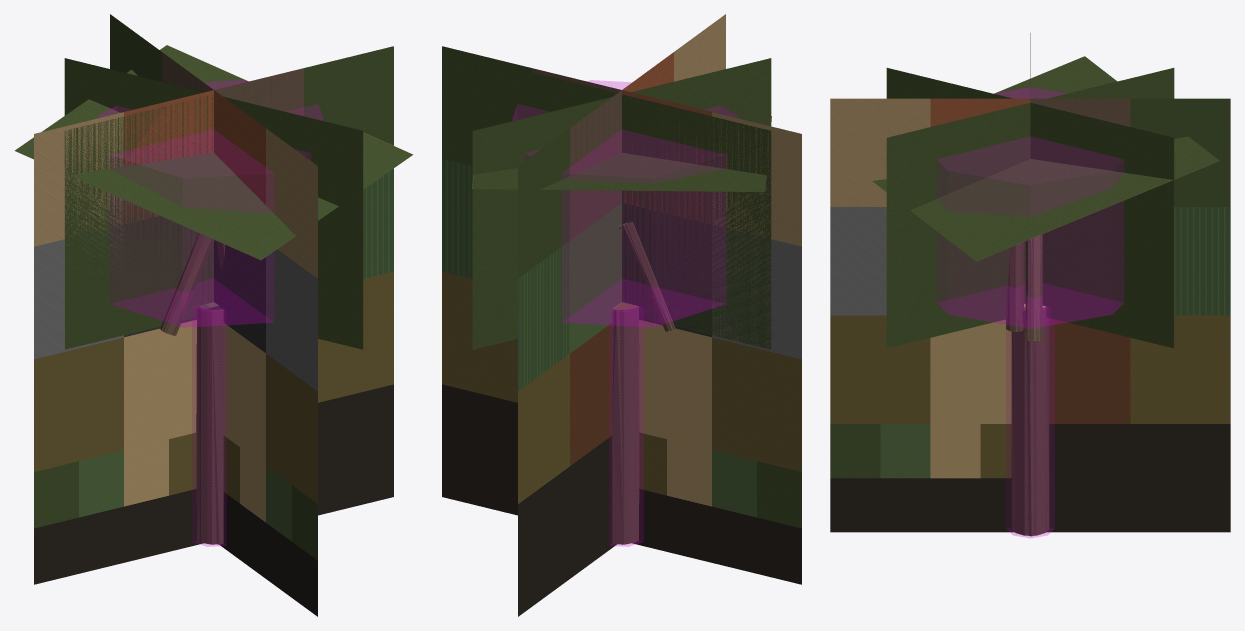
The model's file is mesquite_small.dae.
3 views of the same model, side by side, from view 1: azimuth 30°, elevation 25°; view 2: azimuth 150°, elevation 25°; view 3: azimuth 270°, elevation 25° (orthographic). The views are drawn at different scales.
Visible parts, largest first — view 1: mesquite_small_a50, mesquite_small_a800, mesquite_small_a200, Colmesh_canopy-1, Colmesh_trunk-1; view 2: mesquite_small_a50, mesquite_small_a800, mesquite_small_a200, Colmesh_canopy-1, Colmesh_trunk-1; view 3: mesquite_small_a50, mesquite_small_a800, mesquite_small_a200, Colmesh_canopy-1, Colmesh_trunk-1.
Part boxes in pixels (left/top/right/bottom): mesquite_small_a50: left=34, top=14, right=393, bottom=616; mesquite_small_a800: left=15, top=45, right=413, bottom=544; mesquite_small_a200: left=17, top=46, right=409, bottom=544; Colmesh_canopy-1: left=97, top=80, right=323, bottom=327; Colmesh_trunk-1: left=192, top=326, right=225, bottom=546; mesquite_small_a50: left=442, top=14, right=801, bottom=616; mesquite_small_a800: left=472, top=58, right=771, bottom=544; mesquite_small_a200: left=472, top=58, right=771, bottom=542; Colmesh_canopy-1: left=512, top=80, right=738, bottom=327; Colmesh_trunk-1: left=610, top=326, right=643, bottom=546; mesquite_small_a50: left=830, top=98, right=1230, bottom=532; mesquite_small_a800: left=872, top=33, right=1219, bottom=535; mesquite_small_a200: left=874, top=35, right=1219, bottom=536; Colmesh_canopy-1: left=937, top=87, right=1123, bottom=328; Colmesh_trunk-1: left=1006, top=325, right=1054, bottom=538.
Bounding box in the file's own units: 2.65 × 2.65 × 3.17.
2 materials, 1 textured.
